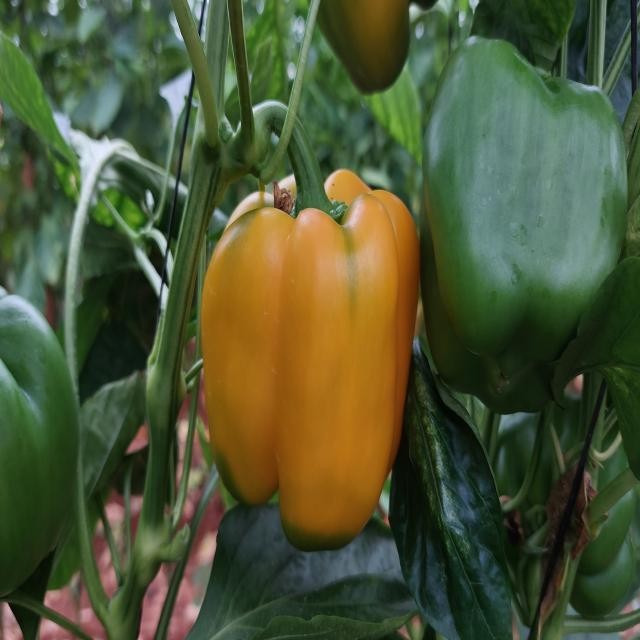Yellow-Ready-to-Harvest: (198, 167, 422, 548)
